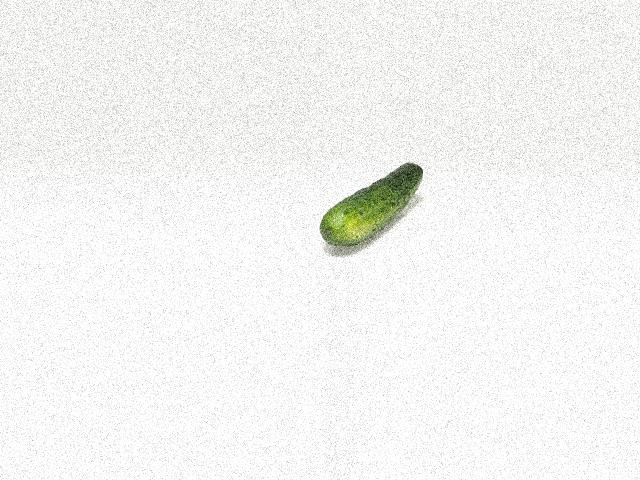cucumber: (320, 163, 423, 245)
